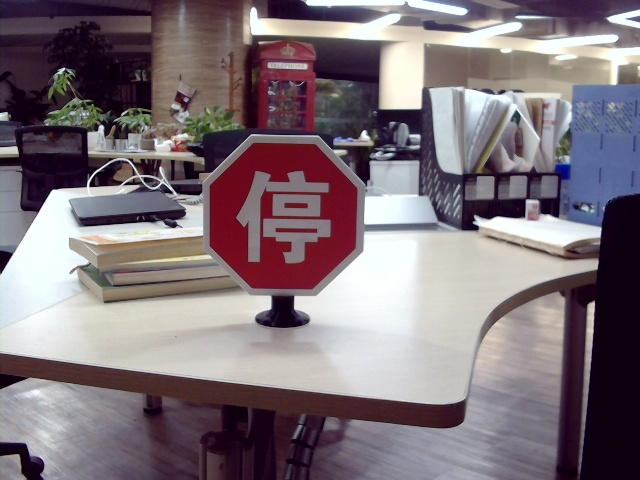stop: (231, 160, 333, 268)
